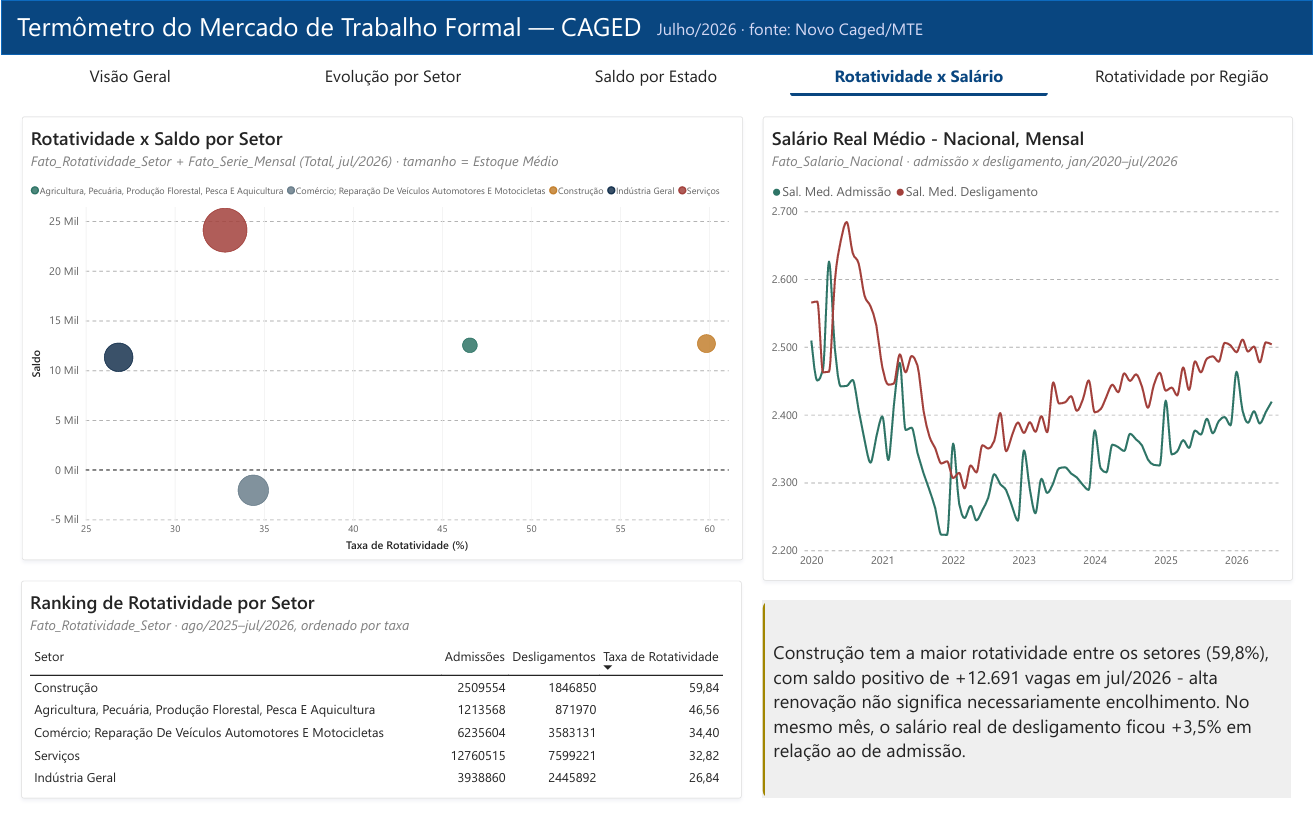

What the dashboard file says about the page in this screenshot:
{"tool":"powerbi","page":{"name":"Rotatividade x Salário","canvas":[1920,1200],"ordinal":3},"visuals":[{"type":"group","id":"g1","title":"Grupo 2","box":[0,0,1920,140],"z":0},{"type":"shape","box":[0,0,1920,80],"z":0,"group":"g2"},{"type":"group","id":"g2","title":"Grupo 1","box":[0,0,1920,80],"z":0,"group":"g1"},{"type":"textbox","box":[0,12,960,62],"z":1000,"group":"g2"},{"type":"pageNavigator","box":[0,80,1920,60],"z":1000,"group":"g1"},{"type":"scatterChart","title":"Saldo mensal nacional — Jan/2020 a Jul/2026","box":[30,170,1056,680],"z":1000},{"type":"textbox","box":[945,24,420,42],"z":2000,"group":"g2"},{"type":"lineChart","title":"Saldo mensal nacional — Jan/2020 a Jul/2026","box":[1116,170,774,680],"z":2000},{"type":"tableEx","title":"Saldo mensal nacional — Jan/2020 a Jul/2026","box":[30,880,1860,290],"z":3000}]}

Visuals, with their boxes in screenshot pixels (x1, y1, x2, y2), scaled from the page's 1920x1200 canvas onto the 1313x825 screenshot:
"Grupo 2" group: detection(0, 0, 1312, 96)
shape: detection(0, 0, 1312, 55)
"Grupo 1" group: detection(0, 0, 1312, 55)
textbox: detection(0, 8, 656, 51)
pageNavigator: detection(0, 55, 1312, 96)
"Saldo mensal nacional — Jan/2020 a Jul/2026" scatterChart: detection(21, 117, 743, 584)
textbox: detection(646, 16, 933, 45)
"Saldo mensal nacional — Jan/2020 a Jul/2026" lineChart: detection(763, 117, 1292, 584)
"Saldo mensal nacional — Jan/2020 a Jul/2026" tableEx: detection(21, 605, 1292, 804)
